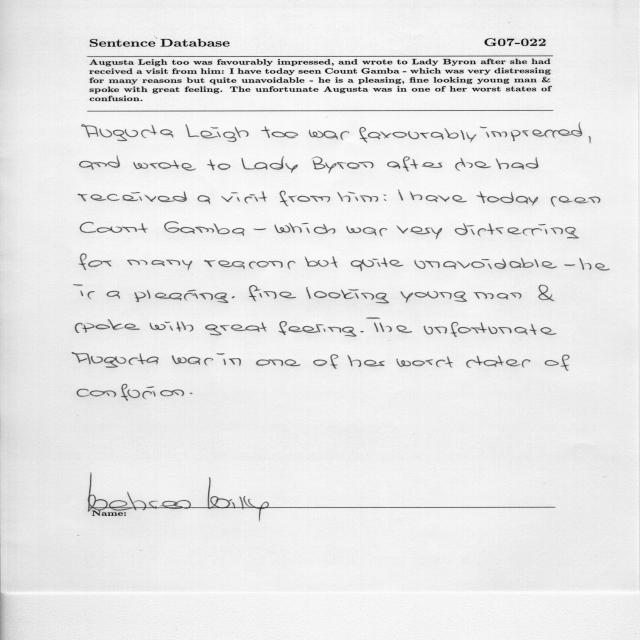word: (424, 322, 556, 337), (480, 123, 582, 142), (455, 223, 579, 238), (77, 384, 184, 401), (360, 127, 477, 142), (414, 258, 557, 269), (82, 124, 173, 141), (306, 287, 389, 303), (72, 353, 159, 368), (279, 321, 357, 337), (135, 290, 229, 303), (78, 192, 187, 203), (185, 124, 249, 142), (164, 222, 245, 236), (312, 157, 374, 174), (241, 156, 298, 173), (75, 319, 140, 333), (477, 192, 538, 206), (466, 355, 531, 368), (387, 157, 442, 172), (204, 260, 295, 269), (206, 323, 267, 336), (401, 291, 467, 303), (249, 285, 296, 301), (280, 191, 330, 206), (80, 222, 148, 233), (133, 160, 196, 171), (366, 318, 412, 333), (396, 356, 453, 368), (351, 258, 403, 271), (275, 223, 336, 234), (127, 260, 192, 270), (80, 155, 120, 170), (397, 226, 442, 239), (410, 192, 467, 202), (496, 157, 539, 170), (221, 192, 267, 204), (551, 196, 601, 207), (80, 254, 112, 270), (455, 158, 491, 171), (172, 355, 213, 366), (261, 126, 298, 138), (348, 355, 385, 367), (150, 322, 193, 332), (545, 354, 570, 371), (337, 192, 378, 202), (347, 226, 388, 236), (579, 258, 610, 271), (309, 130, 349, 140), (305, 256, 338, 268), (313, 354, 339, 369), (474, 292, 522, 300), (216, 353, 241, 366), (256, 359, 301, 366), (74, 285, 95, 299), (538, 285, 555, 301), (207, 160, 231, 171), (198, 195, 210, 204), (107, 291, 120, 299), (398, 190, 403, 200), (253, 228, 266, 230), (588, 136, 591, 144), (565, 264, 576, 266), (384, 194, 387, 201), (232, 296, 235, 298), (360, 331, 364, 332), (190, 393, 193, 394)
